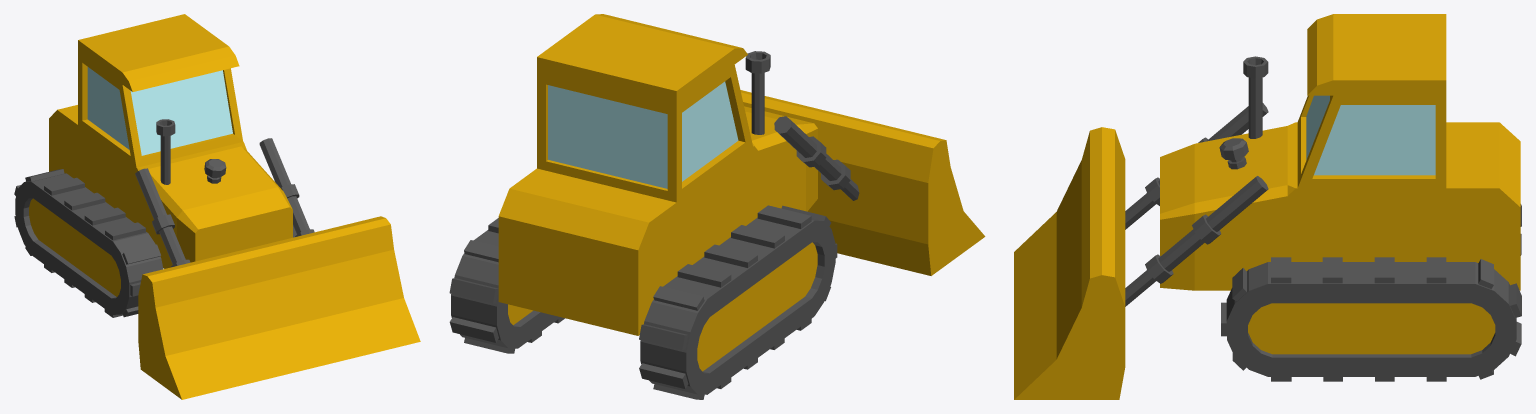
Rendered from low_poly_bulldozer.glb.
The picture shows the model from 3 angles, left to right: view 1: azimuth 30°, elevation 25°; view 2: azimuth 150°, elevation 25°; view 3: azimuth 270°, elevation 25°; orthographic projection. The views are drawn at different scales.
Visible parts, largest first — view 1: Cube.011; view 2: Cube.011; view 3: Cube.011.
Boxes of the visible parts, box(x1,y1,x2,y2) form: Cube.011: box(14, 14, 420, 399); Cube.011: box(449, 14, 985, 399); Cube.011: box(1014, 14, 1521, 399).
Size of the model in its own units: 9.86 by 8.66 by 14.29.
